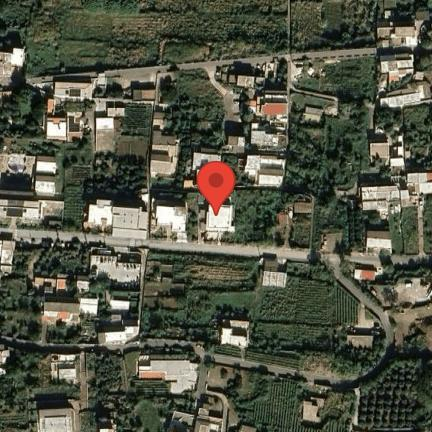area_open: (138, 250, 258, 340), (372, 285, 432, 340), (90, 252, 143, 282)
built: (362, 171, 432, 214), (379, 54, 432, 107), (0, 151, 59, 196), (137, 354, 196, 398), (86, 207, 150, 241), (250, 93, 286, 146), (0, 198, 64, 226), (154, 202, 193, 244), (147, 132, 179, 180), (52, 75, 101, 103), (245, 155, 284, 186), (376, 24, 420, 51), (44, 299, 85, 323), (43, 409, 85, 432), (219, 319, 252, 348), (50, 355, 79, 387), (0, 50, 27, 84), (191, 151, 226, 175), (206, 205, 233, 233), (301, 395, 324, 427), (263, 258, 286, 289), (196, 409, 227, 432), (26, 280, 72, 295), (364, 229, 393, 252), (0, 240, 18, 277), (294, 201, 317, 217)
vegetation_high: (85, 352, 190, 432), (359, 349, 432, 432), (285, 122, 364, 196), (159, 67, 222, 133), (0, 348, 39, 430), (1, 90, 47, 147), (0, 284, 40, 347), (89, 151, 144, 194), (239, 193, 281, 247), (31, 244, 88, 277), (404, 109, 431, 167)
vegetation_low: (0, 1, 282, 76), (258, 261, 360, 370), (207, 361, 299, 432), (288, 0, 371, 52), (297, 56, 376, 101)
